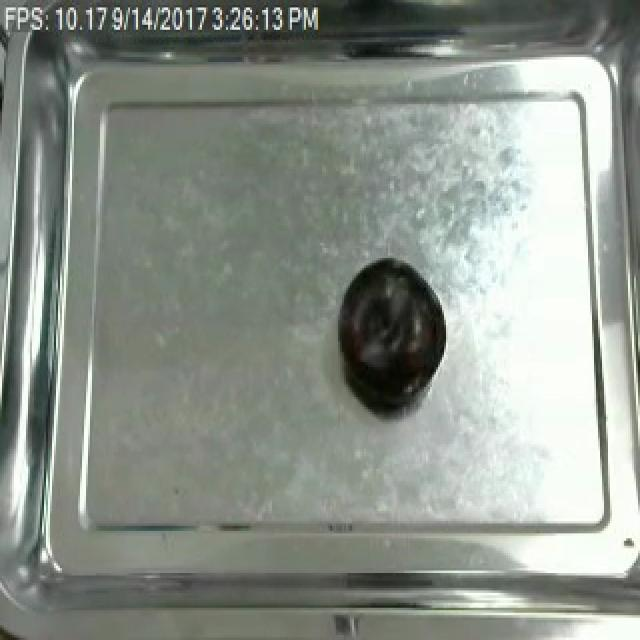Fruit: (332, 253, 444, 412)
